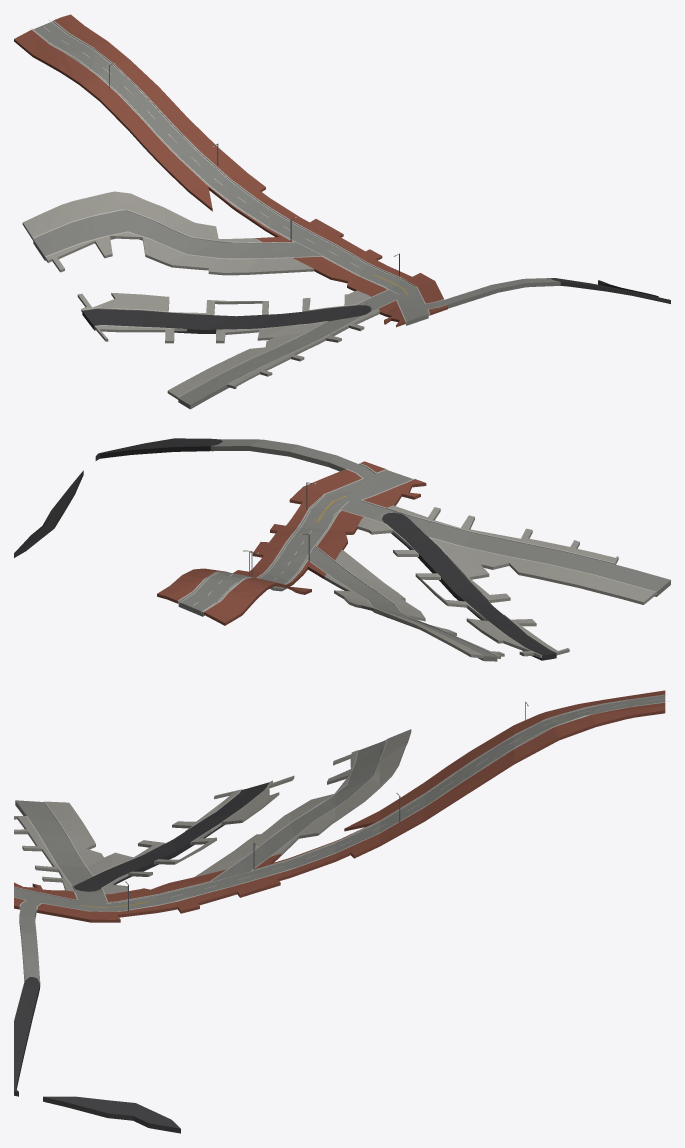
3 renders of one model, top to bottom at view 1: azimuth 30°, elevation 25°; view 2: azimuth 150°, elevation 25°; view 3: azimuth 270°, elevation 25°, orthographic. The views are drawn at different scales.
Bounding box in the file's own units: 147 × 58.24 × 147.
